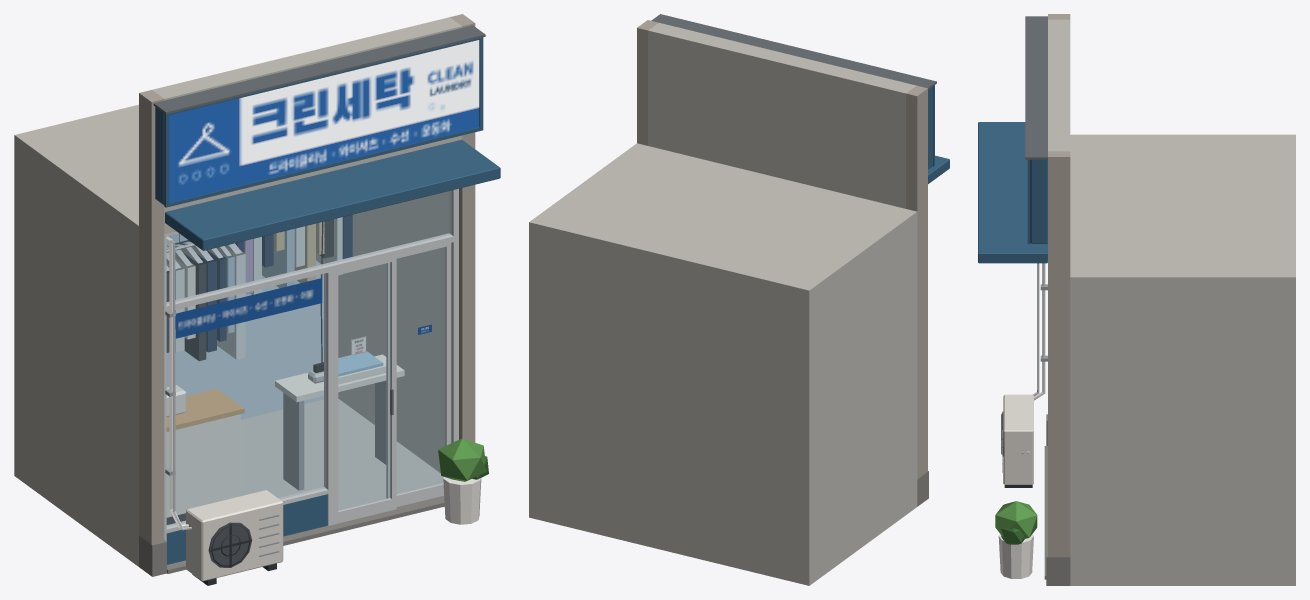
Rendered from SC_Shop_Laundry.gltf.
The picture shows the model from 3 angles, left to right: view 1: azimuth 30°, elevation 25°; view 2: azimuth 150°, elevation 25°; view 3: azimuth 270°, elevation 25°; orthographic projection. The views are drawn at different scales.
Visible parts, largest first — view 1: SC_Shop_Laundry; view 2: SC_Shop_Laundry; view 3: SC_Shop_Laundry.
Boxes of the visible parts, box(x1,y1,x2,y2) form: SC_Shop_Laundry: box(14, 14, 500, 585); SC_Shop_Laundry: box(529, 14, 949, 585); SC_Shop_Laundry: box(978, 14, 1295, 585).
Size of the model in its own units: 3 by 4.2 by 2.82.
5 materials, 5 textured.
